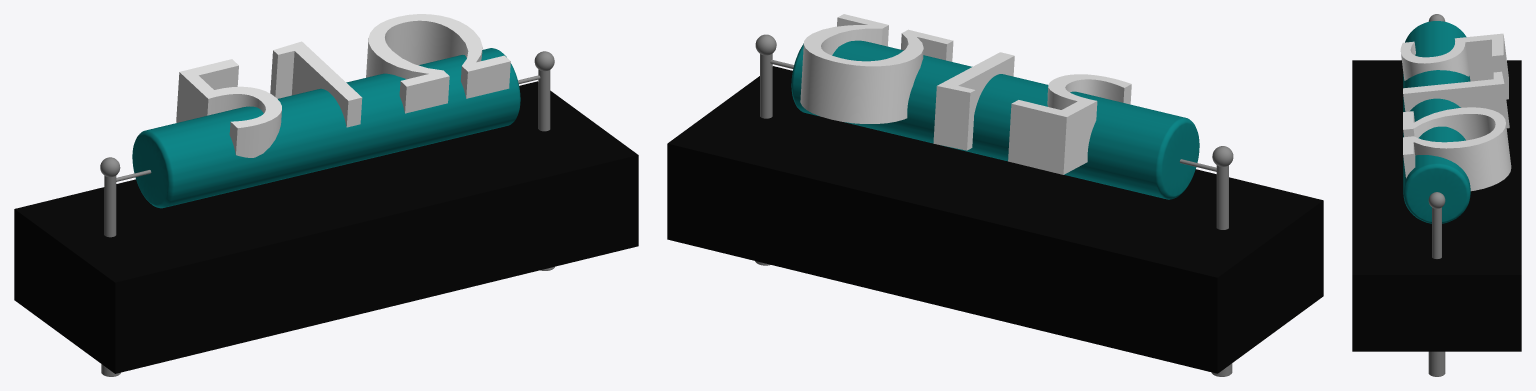
The picture shows the model from 3 angles, left to right: view 1: azimuth 30°, elevation 25°; view 2: azimuth 150°, elevation 25°; view 3: azimuth 270°, elevation 25°; orthographic projection. The views are drawn at different scales.
Visible parts, largest first — view 1: pCube1, pCylinder1, typeMesh1, pCylinder3, pasted__pCylinder3; view 2: pCube1, typeMesh1, pCylinder1, pCylinder3, pasted__pCylinder3; view 3: pCube1, typeMesh1, pCylinder1, pasted__pCylinder3, pasted__pCylinder4, pasted__pSphere1.
Part boxes in pixels (bbox=[...]): pCube1: bbox=[14, 81, 638, 373]; pCylinder1: bbox=[132, 48, 520, 208]; typeMesh1: bbox=[176, 14, 510, 157]; pCylinder3: bbox=[104, 175, 116, 237]; pasted__pCylinder3: bbox=[538, 69, 550, 131]; pCube1: bbox=[667, 66, 1323, 373]; typeMesh1: bbox=[800, 14, 1131, 174]; pCylinder1: bbox=[791, 40, 1199, 199]; pCylinder3: bbox=[1216, 165, 1228, 229]; pasted__pCylinder3: bbox=[760, 53, 772, 118]; pCube1: bbox=[1352, 60, 1521, 351]; typeMesh1: bbox=[1400, 33, 1511, 191]; pCylinder1: bbox=[1403, 21, 1470, 223]; pasted__pCylinder3: bbox=[1432, 207, 1441, 258]; pasted__pCylinder4: bbox=[1428, 351, 1445, 376]; pasted__pSphere1: bbox=[1428, 192, 1445, 208].
Bounding box in the file's own units: 0.03 × 0.0135 × 0.01.
